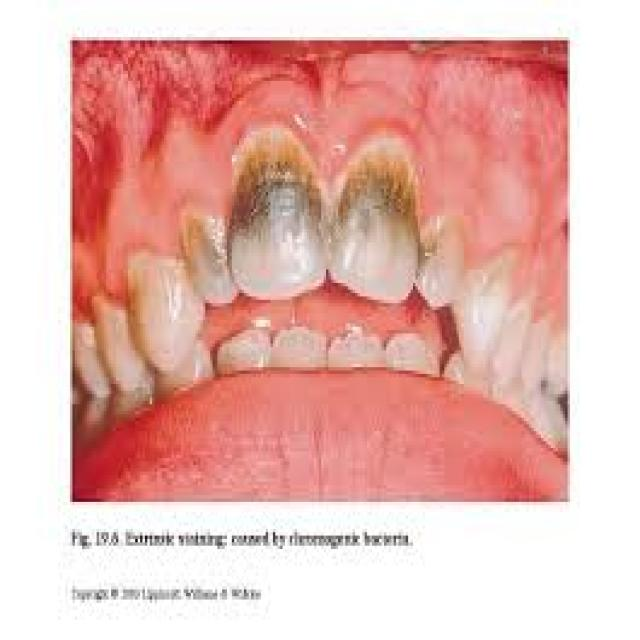Tooth Discoloration: (181, 136, 452, 282)
